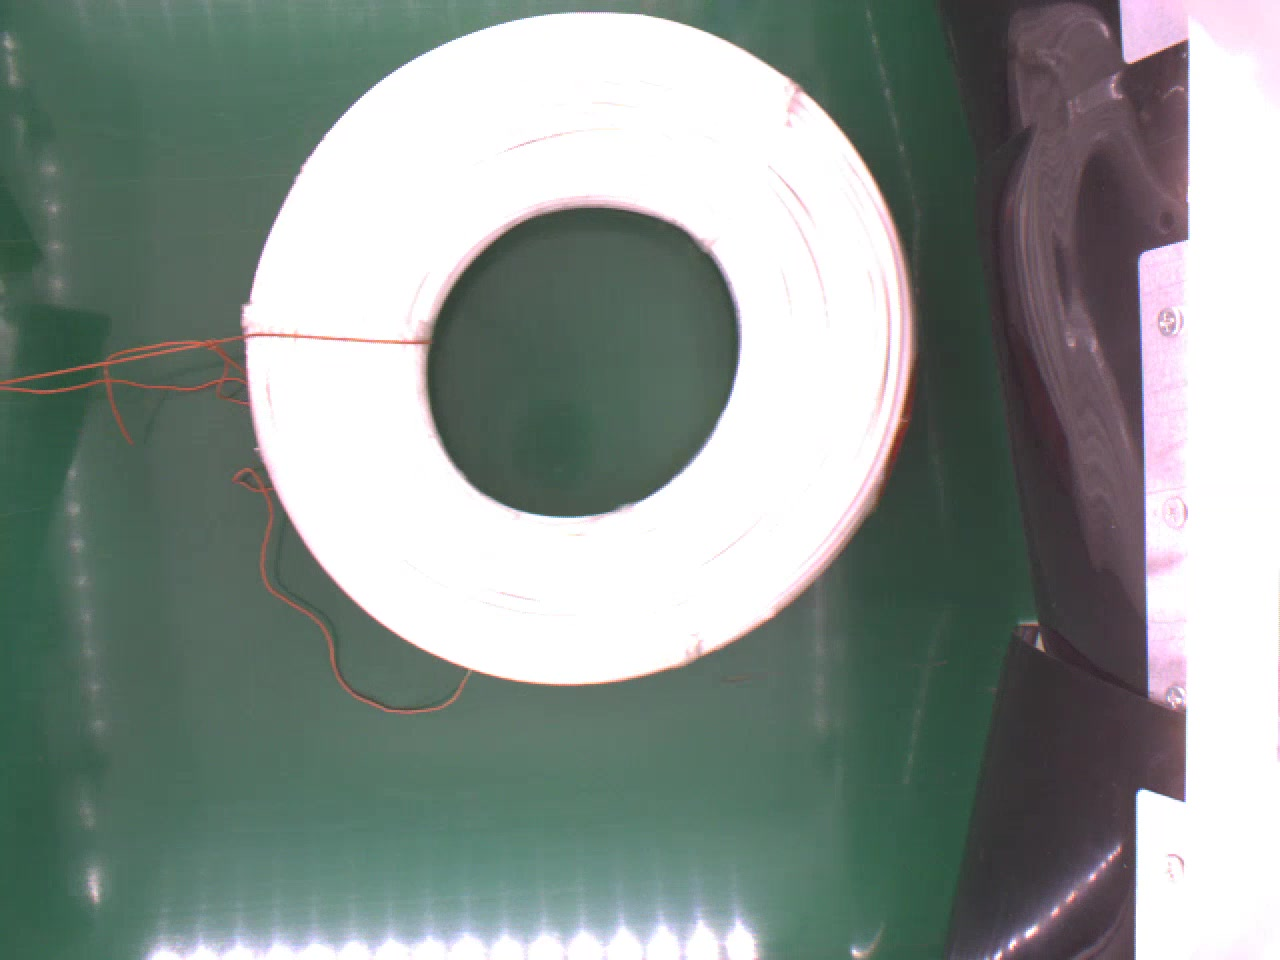white: (239, 6, 923, 685)
